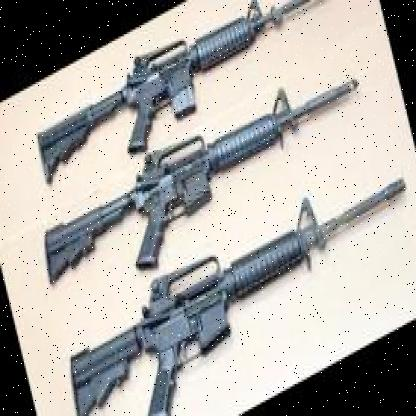rifle: (53, 152, 416, 416), (32, 48, 378, 318), (21, 0, 353, 209)
